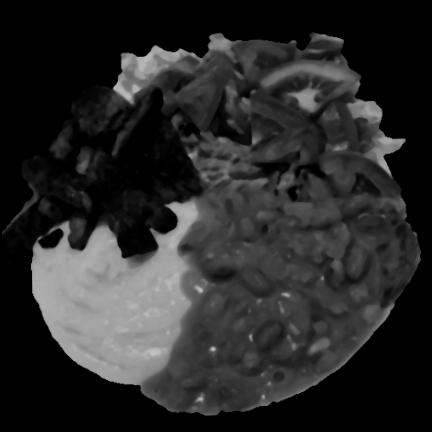beans: (141, 187, 419, 414)
meat: (2, 85, 198, 264)
potato: (31, 201, 196, 385)
salad: (171, 80, 312, 191)
tomato: (172, 39, 400, 197)
